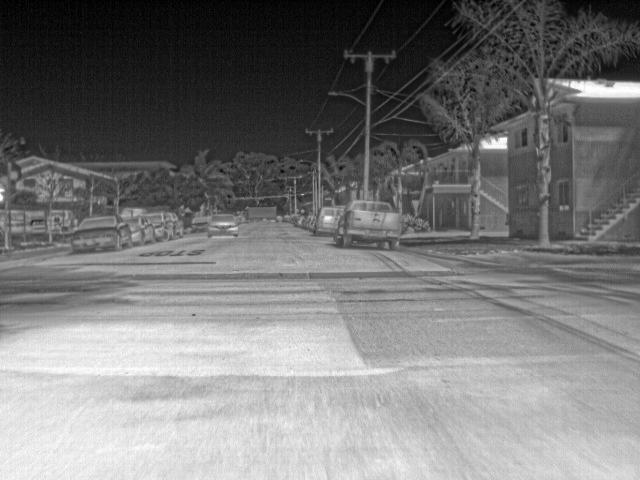car: (332, 199, 401, 251), (70, 214, 131, 253), (122, 214, 156, 244), (144, 210, 175, 240), (206, 212, 240, 238), (313, 206, 343, 234), (10, 209, 27, 234), (28, 214, 47, 234), (190, 214, 208, 234), (302, 213, 318, 232), (290, 213, 304, 228), (175, 215, 184, 235), (62, 211, 72, 228), (283, 213, 291, 223)
person: (50, 213, 62, 232)
